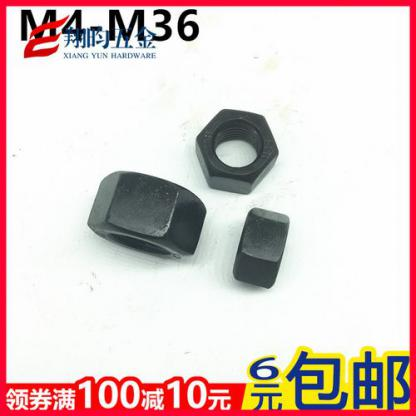FOD: (85, 169, 207, 259), (193, 107, 282, 193), (229, 205, 291, 290)
